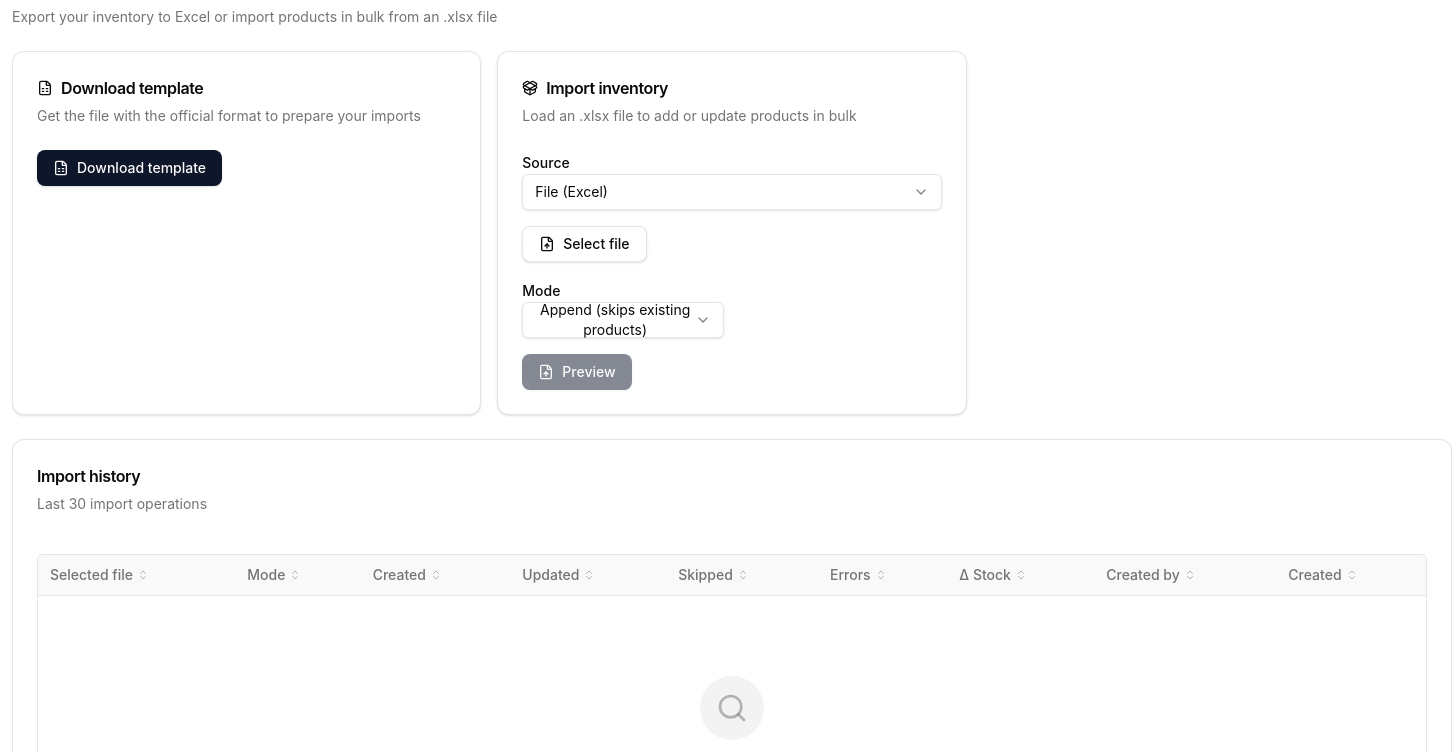
Test: ImportExportPage › runs a preview of the selected file and imports it
Step 1. Click the button "Select file" → (584, 244), box x1=522 y1=226 x2=646 y2=262
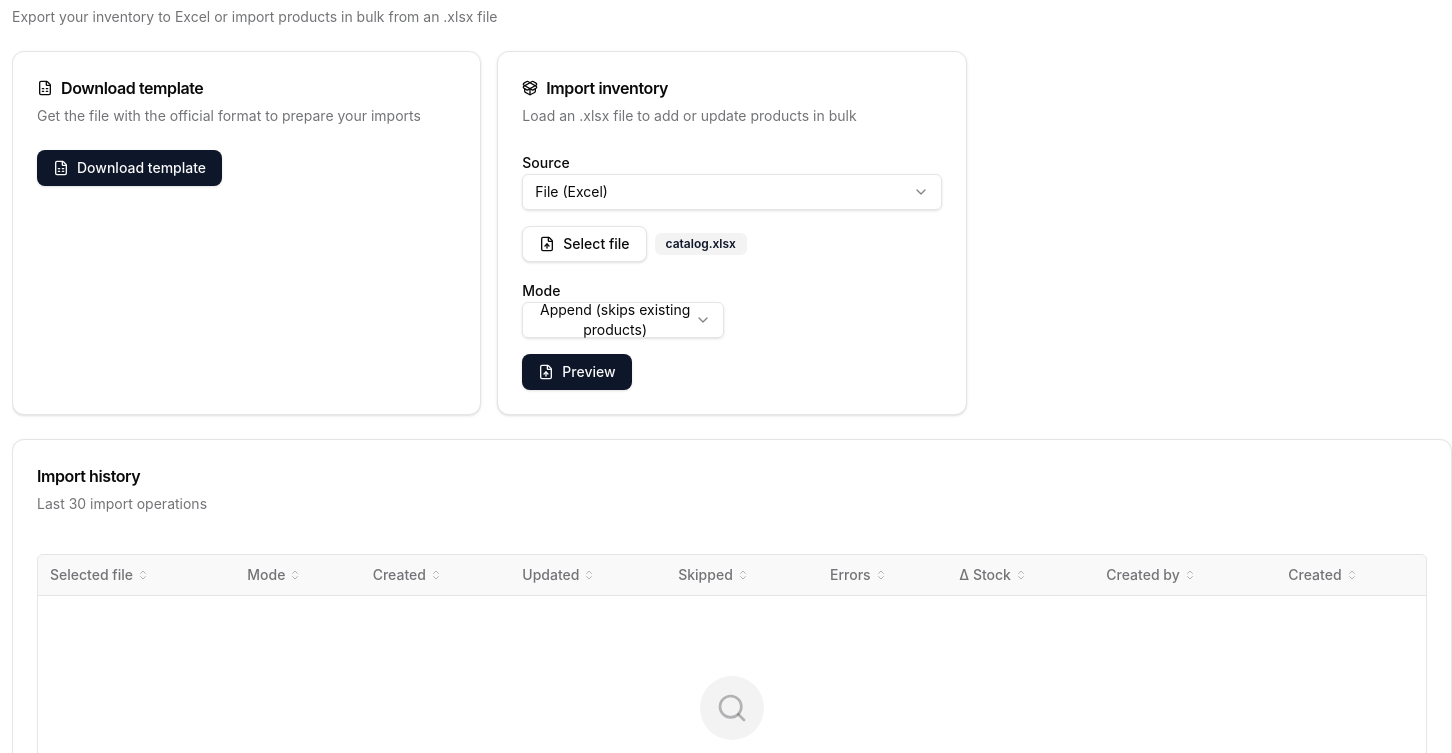
Expected: the text "catalog.xlsx" is shown, x1=655 y1=233 x2=747 y2=255
Step 2. Click the button "Preview" → (577, 372), box x1=522 y1=354 x2=632 y2=390
(page scrolled)
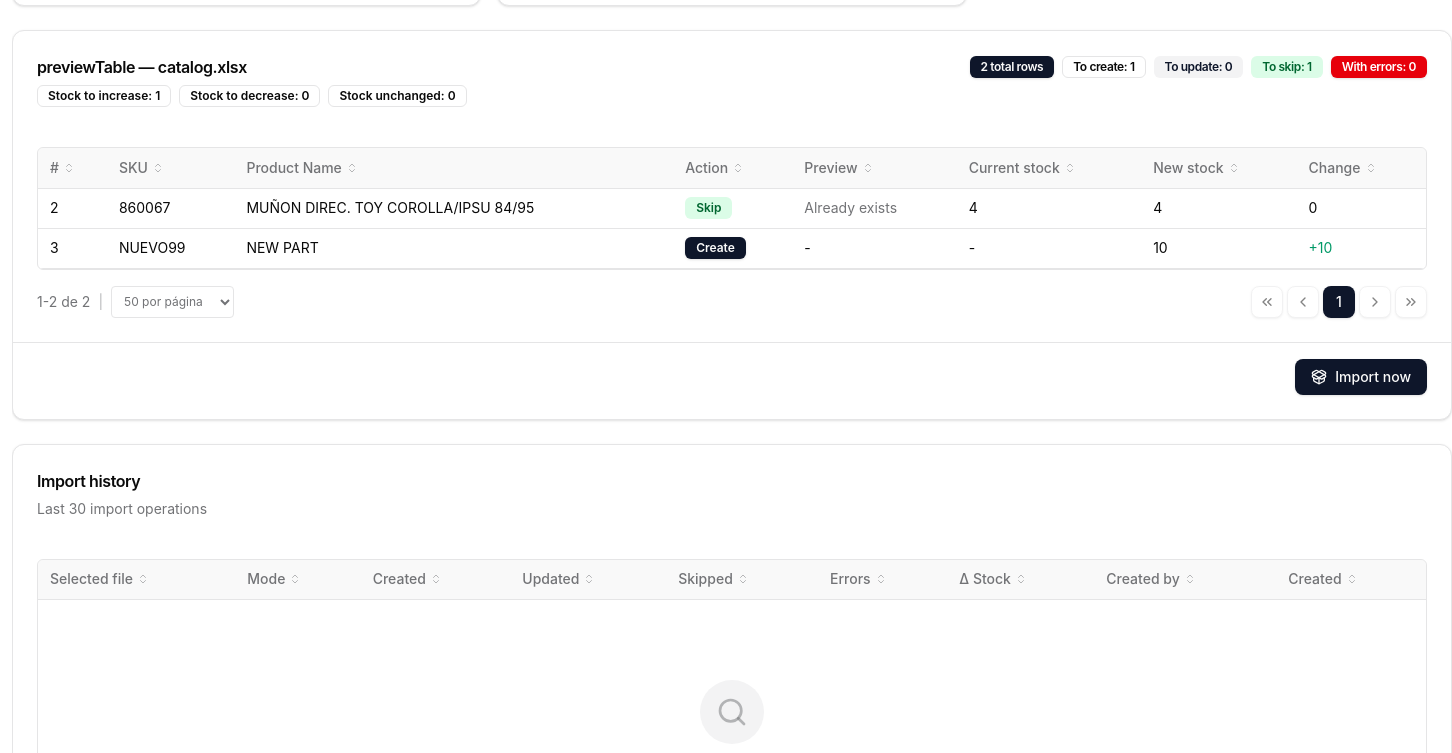
Expected: the text "NEW PART" is shown, x1=234 y1=228 x2=673 y2=268
Step 3. Click the button "Import now" → (1361, 376), box x1=1295 y1=358 x2=1427 y2=394
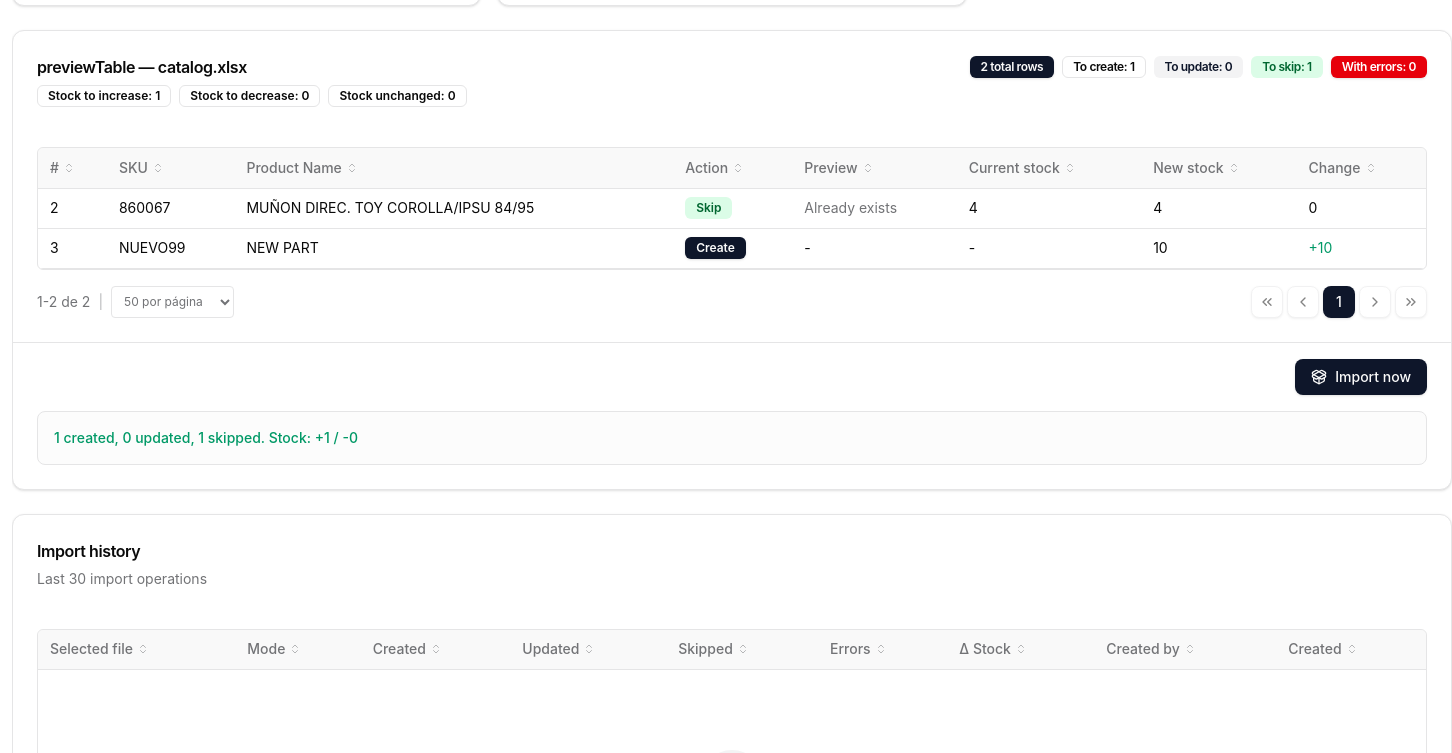
Expected: the text "1 created, 0 updated, 1 skipped. Stock: +1 / -0" is shown, x1=54 y1=428 x2=358 y2=446
